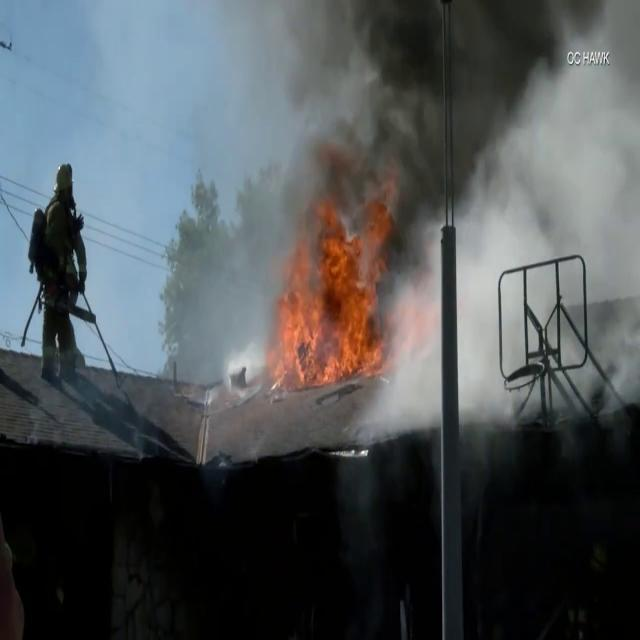Fire: (251, 190, 401, 390)
Smoke: (234, 0, 632, 258)
